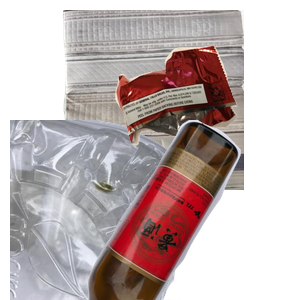glass: (85, 120, 300, 300)
paper: (60, 10, 300, 190)
plastic: (10, 120, 197, 300)
trash: (113, 43, 300, 181)
